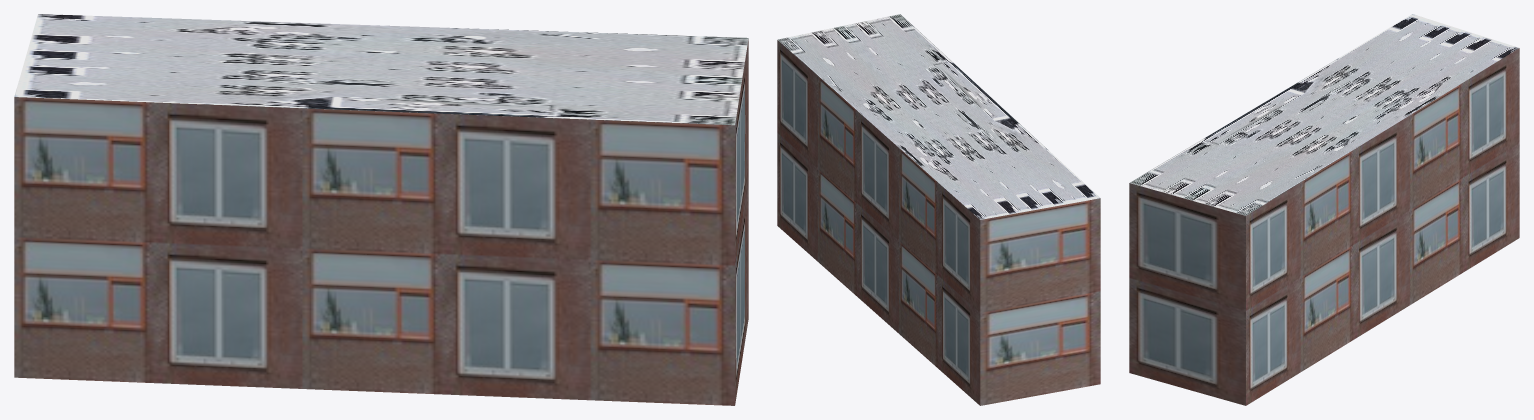
File: ResTex__3220.fbx
The picture shows the model from 3 angles, left to right: view 1: azimuth 30°, elevation 25°; view 2: azimuth 150°, elevation 25°; view 3: azimuth 270°, elevation 25°; orthographic projection. The views are drawn at different scales.
Visible parts, largest first — view 1: CityEngineMaterial_19_m, CityEngineMaterial_15_m; view 2: CityEngineMaterial_19_m, CityEngineMaterial_15_m; view 3: CityEngineMaterial_19_m, CityEngineMaterial_15_m.
Boxes of the visible parts, bbox=[...] form: CityEngineMaterial_19_m: bbox=[14, 39, 748, 405]; CityEngineMaterial_15_m: bbox=[14, 14, 748, 125]; CityEngineMaterial_19_m: bbox=[777, 40, 1100, 405]; CityEngineMaterial_15_m: bbox=[777, 14, 1100, 219]; CityEngineMaterial_19_m: bbox=[1129, 48, 1519, 405]; CityEngineMaterial_15_m: bbox=[1130, 14, 1518, 215].
Size of the model in its own units: 13.68 by 6 by 11.17.
2 materials, 2 textured.
